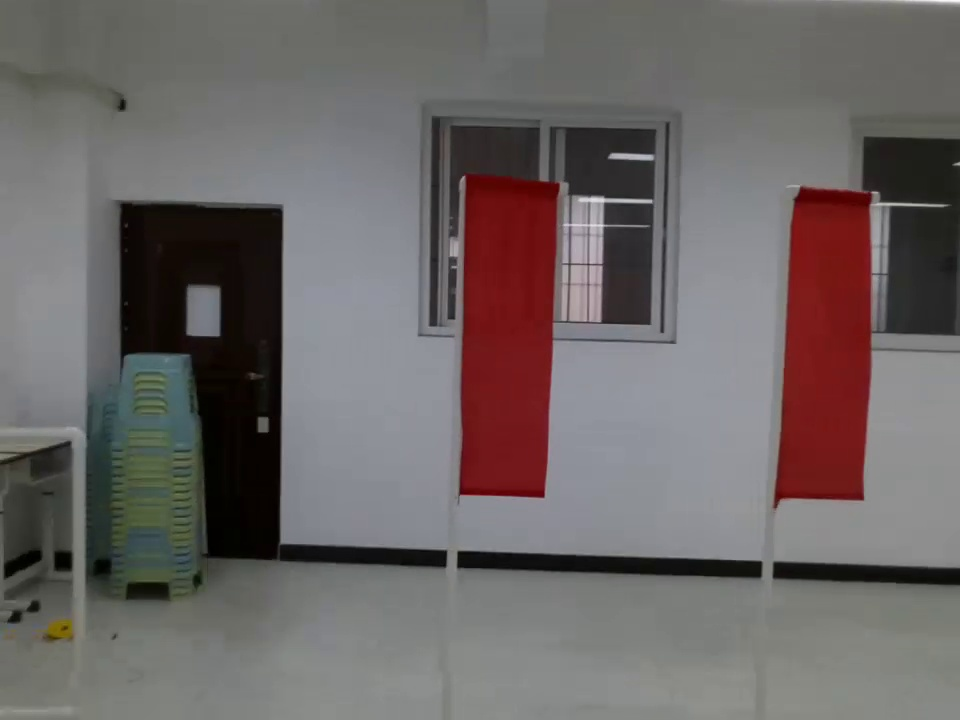qi: (773, 187, 873, 502), (461, 176, 555, 501)
